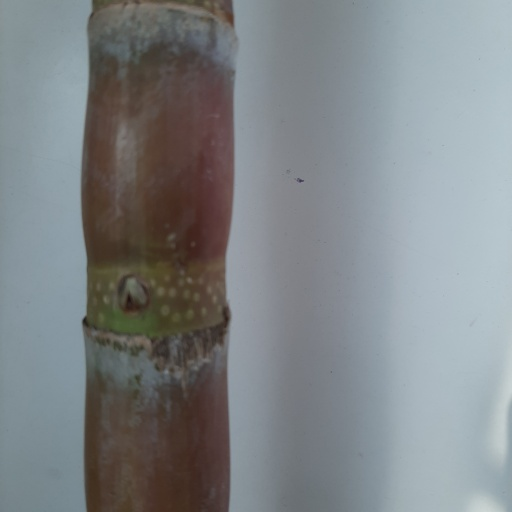Bud: (116, 277, 148, 314)
